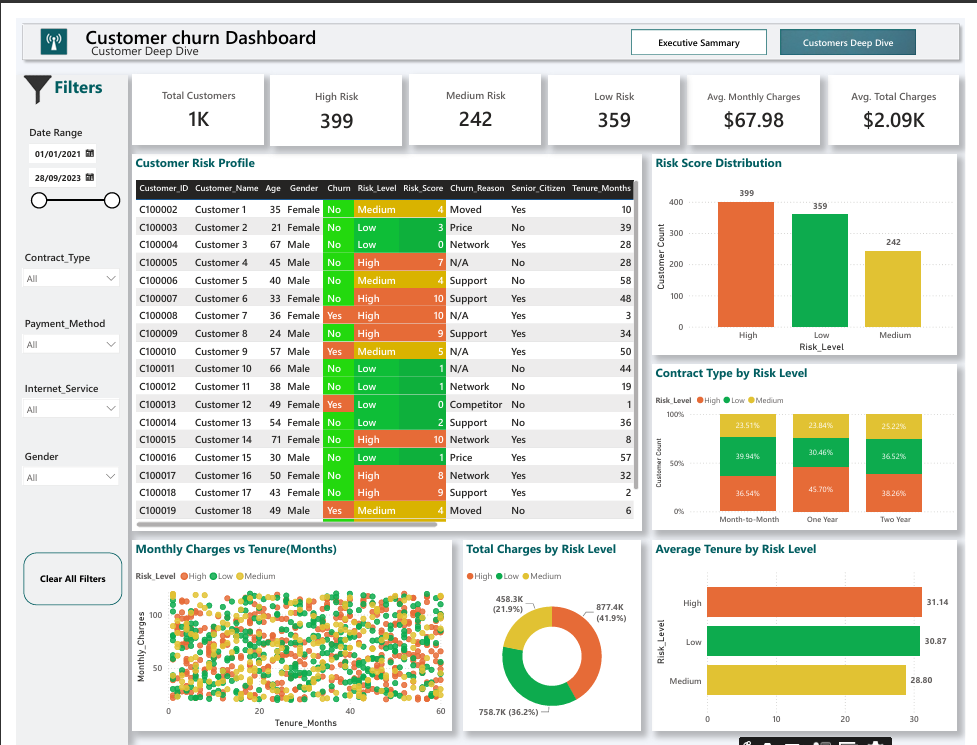

This screenshot's page, from the dashboard's own definition file:
{"tool":"powerbi","page":{"name":"Customer Deep Dive","canvas":[1500,1150],"ordinal":1},"visuals":[{"type":"group","id":"g1","title":"Group 2","box":[0,0,1500,75.4],"z":0},{"type":"group","id":"g2","title":"Group 4","box":[0,0,1500,75.4],"z":0,"group":"g1"},{"type":"group","id":"g3","title":"Group 1","box":[0,0,1500,75.4],"z":0,"group":"g2"},{"type":"shape","box":[0,0,1500,75.4],"z":0,"group":"g3"},{"type":"shape","box":[0,89.7,175.7,1060.3],"z":0,"group":"g4"},{"type":"group","id":"g4","title":"Group 2","box":[0,89.7,175.7,1060.3],"z":500,"group":"g6"},{"type":"group","id":"g5","title":"Group 5","box":[0,75,175.7,1075],"z":1000},{"type":"group","id":"g6","title":"Group 3","box":[0,89.7,175.7,1060.3],"z":1000,"group":"g5"},{"type":"slicer","fields":{"Values":["Telecom_Churn_Data.Join_Date"]},"box":[6.8,165.1,165.3,196.9],"z":1000,"group":"g4"},{"type":"actionButton","box":[11.3,844.2,155.5,83.3],"z":1500,"group":"g6"},{"type":"actionButton","box":[1207.5,18.4,214.3,39.8],"z":2000,"group":"g1"},{"type":"actionButton","box":[971.9,18.5,214.3,39.8],"z":2000,"group":"g3"},{"type":"tableEx","title":"Customer Risk Profile","fields":{"Values":["Telecom_Churn_Data.Customer_ID","Telecom_Churn_Data.Customer_Name","Telecom_Churn_Data.Age","Telecom_Churn_Data.Gender","Telecom_Churn_Data.Churn","Telecom_Churn_Data.Risk_Level","Telecom_Churn_Data.Risk_Score","Telecom_Churn_Data.Churn_Reason","Telecom_Churn_Data.Senior_Citizen","Telecom_Churn_Data.Tenure_Months","Telecom_Churn_Data.Internet_Service","Telecom_Churn_Data.Additional services"]},"box":[183.4,215.1,805.9,595.4],"z":2000},{"type":"slicer","fields":{"Values":["Telecom_Churn_Data.Contract_Type"]},"box":[0,362,172.8,125.9],"z":2000,"group":"g4"},{"type":"textbox","box":[113,32.7,231.2,37],"z":2500,"group":"g3"},{"type":"cardVisual","fields":{"Data":["Measures (3).Total Customers"]},"box":[183.6,89.3,208.4,110.8],"z":3000},{"type":"slicer","fields":{"Values":["Telecom_Churn_Data.Payment_Method"]},"box":[0,466.5,172.8,133.1],"z":3000,"group":"g4"},{"type":"cardVisual","fields":{"Data":["Measures (3).High Risk Customers"]},"box":[401.8,90.9,208.4,110.8],"z":4000},{"type":"slicer","fields":{"Values":["Telecom_Churn_Data.Internet_Service"]},"box":[0,568.4,172.8,133.1],"z":4000,"group":"g4"},{"type":"cardVisual","fields":{"Data":["Measures (3).Medium Risk Customers"]},"box":[621.8,89.3,208.4,110.8],"z":5000},{"type":"slicer","fields":{"Values":["Telecom_Churn_Data.Gender"]},"box":[0,676,172,133.6],"z":5000,"group":"g4"},{"type":"cardVisual","fields":{"Data":["Avg(Telecom_Churn_Data.Total_Charges)"]},"box":[1283.6,90.6,206,110.9],"z":6000},{"type":"cardVisual","fields":{"Data":["Avg(Telecom_Churn_Data.Monthly_Charges)"]},"box":[1060.9,90.5,209.5,110.6],"z":7000},{"type":"cardVisual","fields":{"Data":["Measures (3).Low Risk Customers"]},"box":[841.3,90.5,207.8,110.6],"z":8000},{"type":"columnChart","title":"Risk Score Distribution","fields":{"Category":["Telecom_Churn_Data.Risk_Level"],"Y":["CountNonNull(Telecom_Churn_Data.Customer_ID)"]},"box":[1005.1,215.1,482.2,316.9],"z":9000},{"type":"hundredPercentStackedColumnChart","title":"Contract Type by Risk Level","fields":{"Category":["Telecom_Churn_Data.Contract_Type"],"Series":["Telecom_Churn_Data.Risk_Level"],"Y":["CountNonNull(Telecom_Churn_Data.Customer_ID)"]},"box":[1005.1,547.8,482.2,262.6],"z":10000},{"type":"barChart","title":"Average Tenure by Risk Level","fields":{"Category":["Telecom_Churn_Data.Risk_Level"],"Y":["Avg(Telecom_Churn_Data.Tenure_Months)"]},"box":[1005.1,826.3,482.2,301.1],"z":11000},{"type":"scatterChart","title":"Monthly Charges vs Tenure(Months)","fields":{"Y":["Telecom_Churn_Data.Monthly_Charges"],"X":["Telecom_Churn_Data.Tenure_Months"],"Series":["Telecom_Churn_Data.Risk_Level"]},"box":[183.4,826.3,504.8,301.1],"z":12000},{"type":"donutChart","title":"Total Charges by Risk Level","fields":{"Category":["Telecom_Churn_Data.Risk_Level"],"Y":["Sum(Telecom_Churn_Data.Total_Charges)"]},"box":[706.3,826.3,280.7,301.1],"z":13000},{"type":"image","box":[6,8,106,58],"z":15001,"group":"g2"},{"type":"image","box":[0,75,66.7,69],"z":15003,"group":"g5"}]}

Visuals, with their boxes in screenshot pixels (x1, y1, x2, y2), scaled from the page's 1500x1150 canvas onto the 977x745 screenshot:
"Group 2" group: (left=0, top=0, right=976, bottom=49)
"Group 4" group: (left=0, top=0, right=976, bottom=49)
"Group 1" group: (left=0, top=0, right=976, bottom=49)
shape: (left=0, top=0, right=976, bottom=49)
shape: (left=0, top=58, right=114, bottom=744)
"Group 2" group: (left=0, top=58, right=114, bottom=744)
"Group 5" group: (left=0, top=49, right=114, bottom=744)
"Group 3" group: (left=0, top=58, right=114, bottom=744)
slicer - Telecom_Churn_Data.Join_Date: (left=4, top=107, right=112, bottom=235)
actionButton: (left=7, top=547, right=109, bottom=601)
actionButton: (left=786, top=12, right=926, bottom=38)
actionButton: (left=633, top=12, right=773, bottom=38)
"Customer Risk Profile" tableEx: (left=119, top=139, right=644, bottom=525)
slicer - Telecom_Churn_Data.Contract_Type: (left=0, top=235, right=113, bottom=316)
textbox: (left=74, top=21, right=224, bottom=45)
cardVisual - Measures (3).Total Customers: (left=120, top=58, right=255, bottom=130)
slicer - Telecom_Churn_Data.Payment_Method: (left=0, top=302, right=113, bottom=388)
cardVisual - Measures (3).High Risk Customers: (left=262, top=59, right=397, bottom=131)
slicer - Telecom_Churn_Data.Internet_Service: (left=0, top=368, right=113, bottom=454)
cardVisual - Measures (3).Medium Risk Customers: (left=405, top=58, right=541, bottom=130)
slicer - Telecom_Churn_Data.Gender: (left=0, top=438, right=112, bottom=524)
cardVisual - Avg(Telecom_Churn_Data.Total_Charges): (left=836, top=59, right=970, bottom=131)
cardVisual - Avg(Telecom_Churn_Data.Monthly_Charges): (left=691, top=59, right=827, bottom=130)
cardVisual - Measures (3).Low Risk Customers: (left=548, top=59, right=683, bottom=130)
"Risk Score Distribution" columnChart: (left=655, top=139, right=969, bottom=345)
"Contract Type by Risk Level" hundredPercentStackedColumnChart: (left=655, top=355, right=969, bottom=525)
"Average Tenure by Risk Level" barChart: (left=655, top=535, right=969, bottom=730)
"Monthly Charges vs Tenure(Months)" scatterChart: (left=119, top=535, right=448, bottom=730)
"Total Charges by Risk Level" donutChart: (left=460, top=535, right=643, bottom=730)
image: (left=4, top=5, right=73, bottom=43)
image: (left=0, top=49, right=43, bottom=93)
